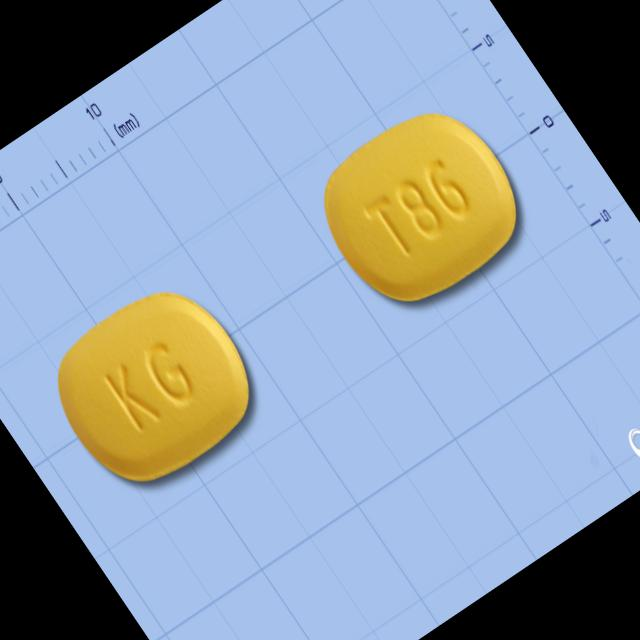Clarin: (27, 261, 283, 514), (294, 81, 550, 334)
